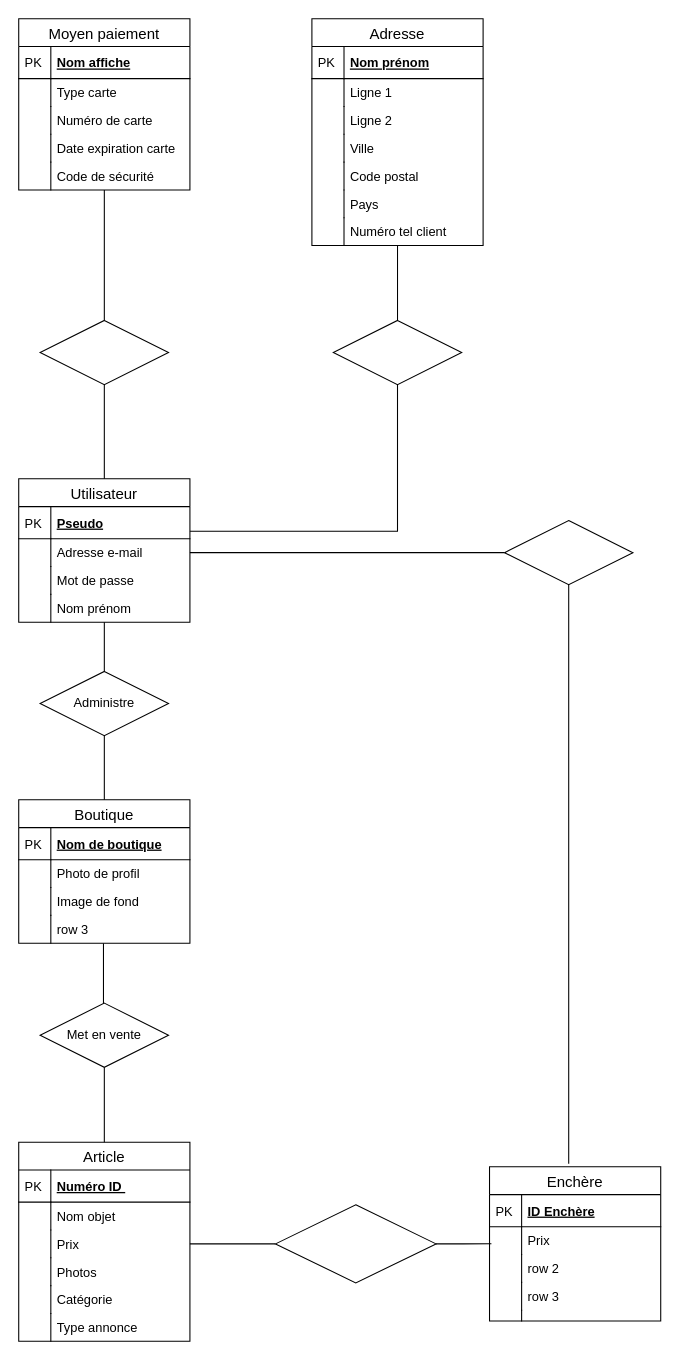
Image size: 679x1363. Some labels were removed from this diagram. Each missing label, with the centre of its shape:
Habite à: (x=397, y=352)
Paye avec: (x=104, y=352)
Place une enchère: (x=568, y=552)
Reçoit plusieurs enchères: (x=355, y=1243)
